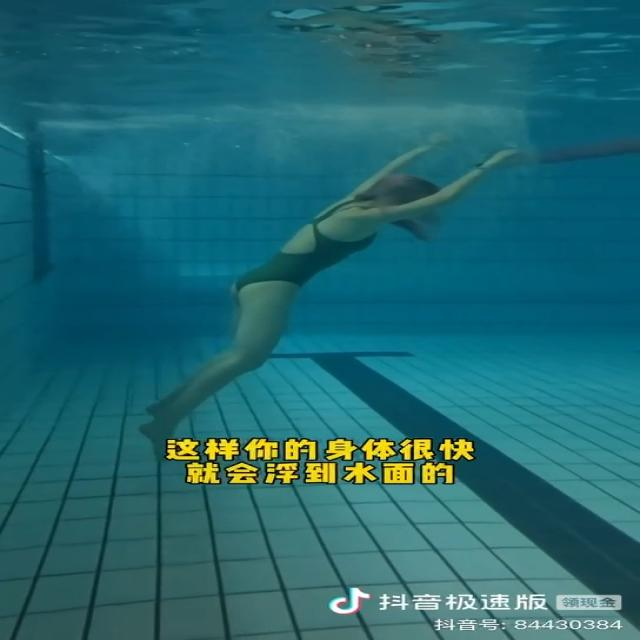Drowning: (143, 141, 524, 458)
